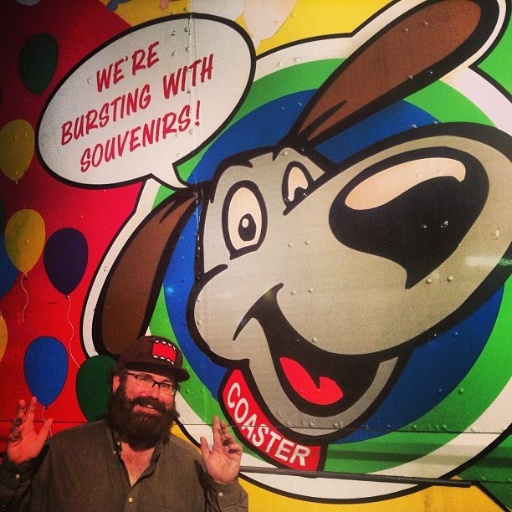hand: (5, 393, 54, 464), (201, 426, 242, 479)
